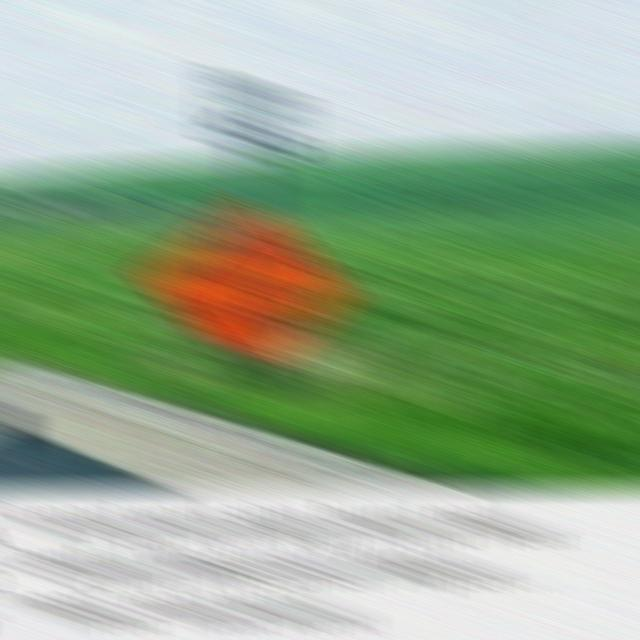speedLimit45: (211, 64, 302, 163)
